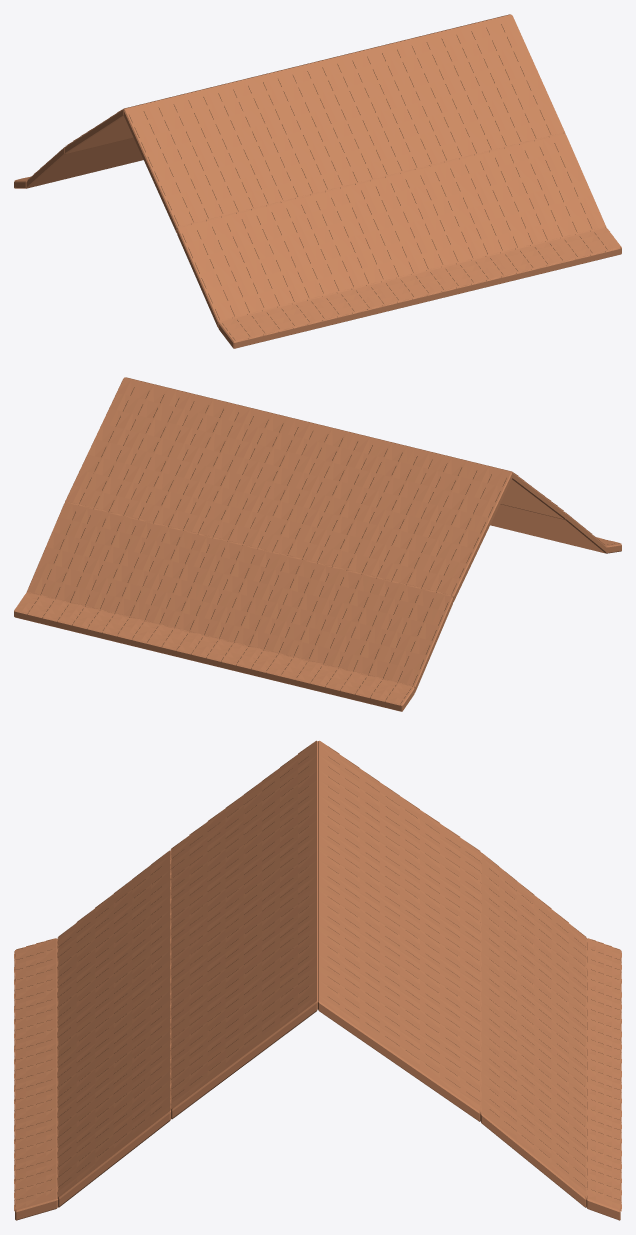
The model's file is SM_HH_Q3_Roof_Main.fbx.
3 views of the same model, one above another, from view 1: azimuth 30°, elevation 25°; view 2: azimuth 150°, elevation 25°; view 3: azimuth 270°, elevation 25° (orthographic). The views are drawn at different scales.
Visible parts, largest first — view 1: HH_Q3_Roof_Main; view 2: HH_Q3_Roof_Main; view 3: HH_Q3_Roof_Main.
Boxes of the visible parts, left/top/right/bottom form: HH_Q3_Roof_Main: left=14, top=14, right=621, bottom=348; HH_Q3_Roof_Main: left=14, top=377, right=621, bottom=711; HH_Q3_Roof_Main: left=14, top=740, right=621, bottom=1220.
Size of the model in its own units: 9.74 by 9.9 by 3.89.
